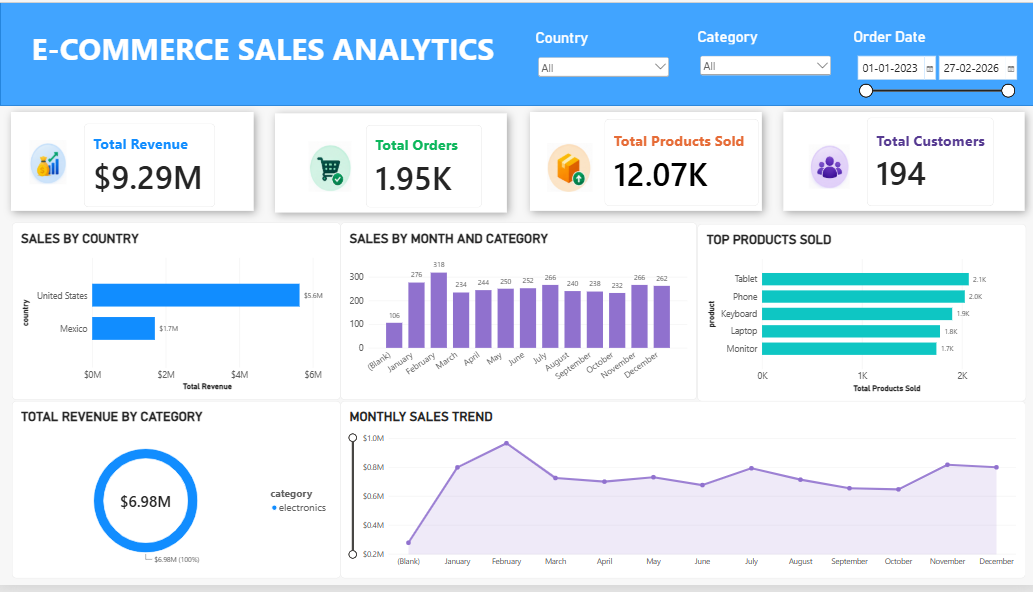

This screenshot's page, from the dashboard's own definition file:
{"tool":"powerbi","page":{"name":"Page 1","canvas":[1920,1080],"ordinal":0},"visuals":[{"type":"shape","box":[0,0,1919.1,192.8],"z":0},{"type":"textbox","box":[59.5,48.2,901.4,195.6],"z":1},{"type":"slicer","title":"Country","fields":{"Values":["public cleaned_orders.country"]},"box":[992.1,51,252.3,90.7],"z":2},{"type":"slicer","title":"Category","fields":{"Values":["public cleaned_orders.category"]},"box":[1292.6,48.2,252.3,90.7],"z":3},{"type":"slicer","title":"Order Date","fields":{"Values":["public cleaned_orders.order_date"]},"box":[1581.7,48.2,303.3,144.6],"z":4},{"type":"shape","box":[0,184.3,490.4,223.9],"z":5},{"type":"shape","box":[490.4,187.1,470.6,223.9],"z":6},{"type":"shape","box":[961,184.3,470.6,223.9],"z":7},{"type":"shape","box":[1431.5,184.3,487.6,223.9],"z":8},{"type":"cardVisual","fields":{"Data":["public cleaned_orders.Total Revenue"]},"box":[155.9,223.9,243.8,155.9],"z":9},{"type":"cardVisual","fields":{"Data":["public cleaned_orders.Total Orders"]},"box":[677.5,226.8,215.4,153.1],"z":10},{"type":"cardVisual","fields":{"Data":["public cleaned_orders.Total Products Sold"]},"box":[1119.7,218.3,286.3,161.6],"z":11},{"type":"cardVisual","fields":{"Data":["public cleaned_orders.Total Customers"]},"box":[1607.3,215.4,235.3,164.4],"z":12},{"type":"image","box":[22.7,255.1,133.2,82.2],"z":13},{"type":"image","box":[544.3,258,133.2,93.5],"z":14},{"type":"image","box":[1012,260.8,87.9,90.7],"z":15},{"type":"image","box":[1493.9,263.6,87.9,82.2],"z":16},{"type":"barChart","title":"SALES BY COUNTRY","fields":{"Category":["public cleaned_orders.country"],"Y":["public cleaned_orders.Total Revenue"]},"box":[22.7,408.2,609.5,328.8],"z":17},{"type":"columnChart","title":"SALES BY MONTH AND CATEGORY","fields":{"Category":["public cleaned_orders.order_date.Variation.Date Hierarchy.Month"],"Y":["CountNonNull(public cleaned_orders.category)"]},"box":[632.1,408.2,660.5,328.8],"z":18},{"type":"barChart","title":"TOP PRODUCTS SOLD","fields":{"Category":["public cleaned_orders.product"],"Y":["public cleaned_orders.Total Products Sold"]},"box":[1292.6,411,609.5,328.8],"z":19},{"type":"donutChart","title":"TOTAL REVENUE BY CATEGORY","fields":{"Category":["public cleaned_orders.category"],"Y":["public cleaned_orders.Total Revenue"]},"box":[22.7,739.8,609.5,328.8],"z":20},{"type":"lineChart","title":"MONTHLY SALES TREND","fields":{"Category":["public cleaned_orders.order_date.Variation.Date Hierarchy.Month"],"Y":["public cleaned_orders.Total Revenue"]},"box":[632.1,739.8,1269.9,328.8],"z":21}]}

Visuals, with their boxes in screenshot pixels (x1, y1, x2, y2), scaled from the page's 1920x1080 canvas onto the 1033x592 screenshot:
shape: (0,0,1032,106)
textbox: (32,26,517,134)
"Country" slicer: (534,28,670,78)
"Category" slicer: (695,26,831,76)
"Order Date" slicer: (851,26,1014,106)
shape: (0,101,264,224)
shape: (264,103,517,225)
shape: (517,101,770,224)
shape: (770,101,1032,224)
cardVisual - public cleaned_orders.Total Revenue: (84,123,215,208)
cardVisual - public cleaned_orders.Total Orders: (365,124,480,208)
cardVisual - public cleaned_orders.Total Products Sold: (602,120,756,208)
cardVisual - public cleaned_orders.Total Customers: (865,118,991,208)
image: (12,140,84,185)
image: (293,141,365,193)
image: (544,143,592,193)
image: (804,144,851,190)
"SALES BY COUNTRY" barChart: (12,224,340,404)
"SALES BY MONTH AND CATEGORY" columnChart: (340,224,695,404)
"TOP PRODUCTS SOLD" barChart: (695,225,1023,406)
"TOTAL REVENUE BY CATEGORY" donutChart: (12,406,340,586)
"MONTHLY SALES TREND" lineChart: (340,406,1023,586)
